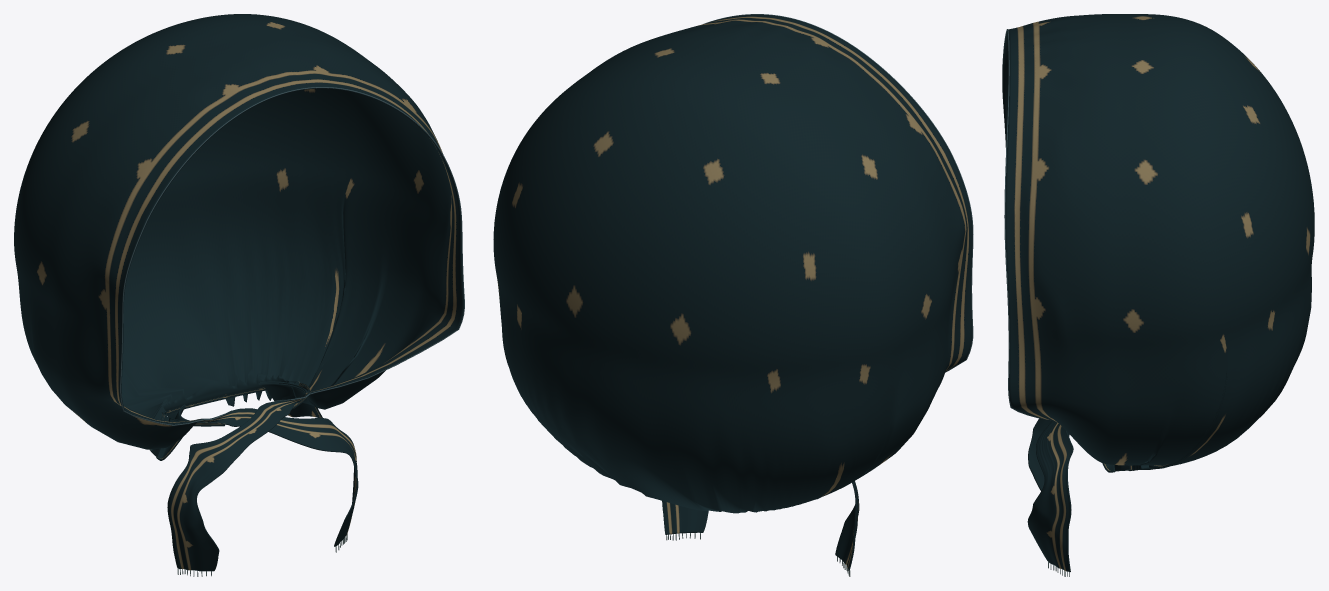
File: Feminine-bob-triangle-pashmina250-headgear.glb
The picture shows the model from 3 angles, left to right: view 1: azimuth 30°, elevation 25°; view 2: azimuth 150°, elevation 25°; view 3: azimuth 270°, elevation 25°; orthographic projection. The views are drawn at different scales.
Parts seen in each view (by area): view 1: 226 headgear / Headwear / continuous woven pashmina239, 226 headgear / Headwear / face edge239; view 2: 226 headgear / Headwear / continuous woven pashmina239, 226 headgear / Headwear / face edge239; view 3: 226 headgear / Headwear / continuous woven pashmina239, 226 headgear / Headwear / face edge239.
Boxes of the visible parts, <box> form: 226 headgear / Headwear / continuous woven pashmina239: <box>14,14,463,571</box>; 226 headgear / Headwear / face edge239: <box>120,87,464,425</box>; 226 headgear / Headwear / continuous woven pashmina239: <box>493,14,972,570</box>; 226 headgear / Headwear / face edge239: <box>703,14,973,372</box>; 226 headgear / Headwear / continuous woven pashmina239: <box>1002,14,1314,571</box>; 226 headgear / Headwear / face edge239: <box>1002,29,1048,419</box>.
Size of the model in its own units: 1.1 by 1.39 by 0.7846.
Materials: 3 (1 with a texture image).
